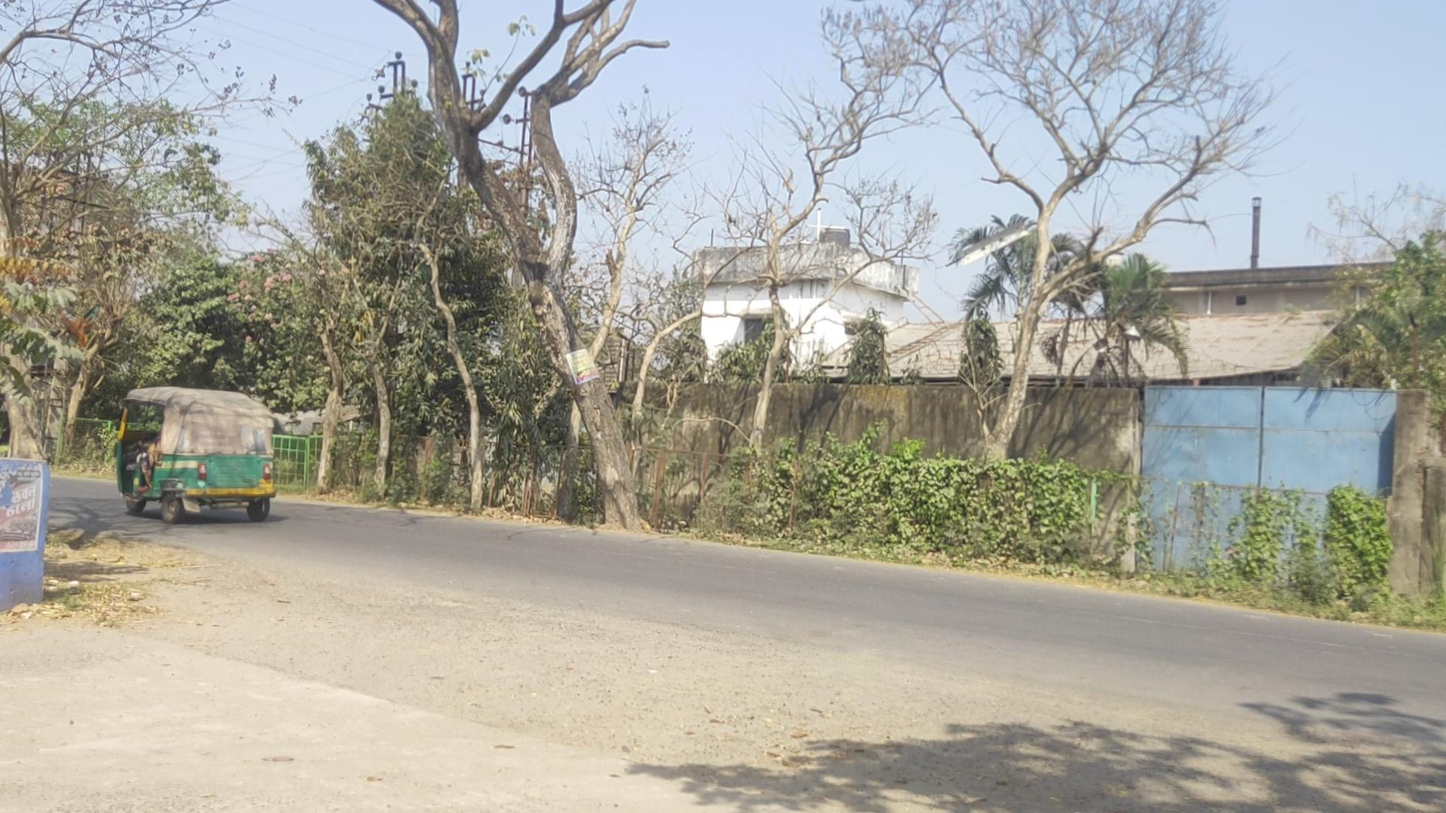Auto: (113, 387, 276, 525)
